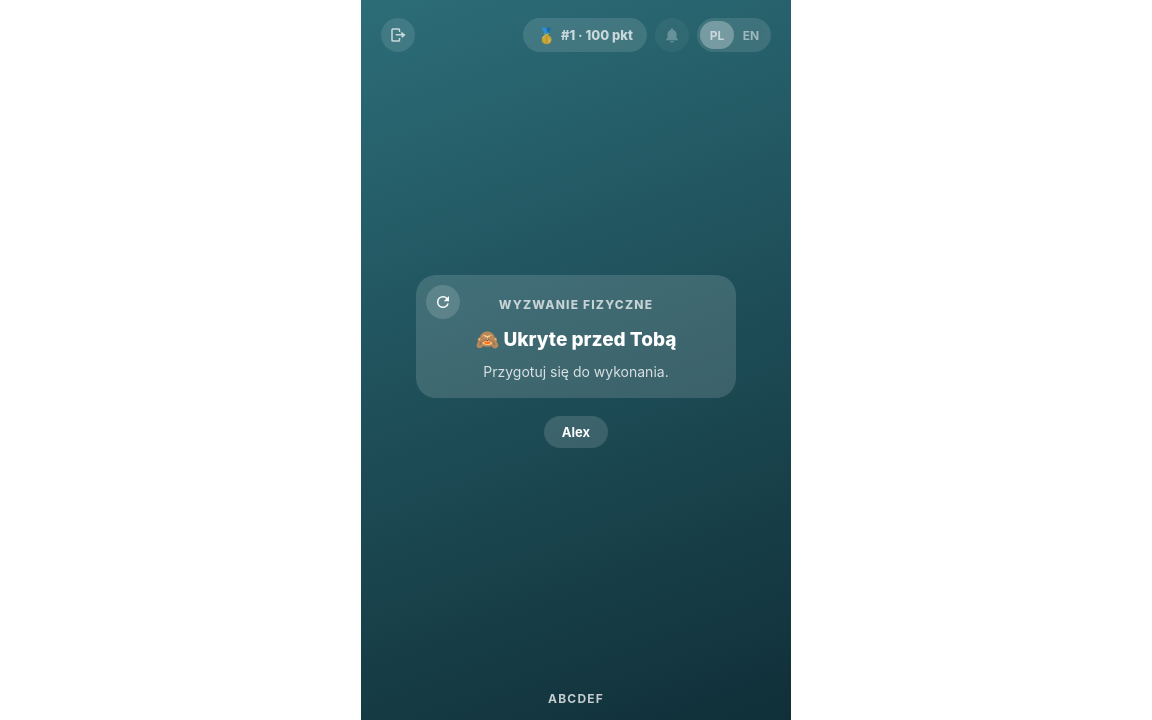
Removing a Guest from the Leaderboard menu › lists Remove after Pause and Resume, in red
Click the button "🥇 #1 · 100 pkt": (585, 35) 523,18 -> 647,52
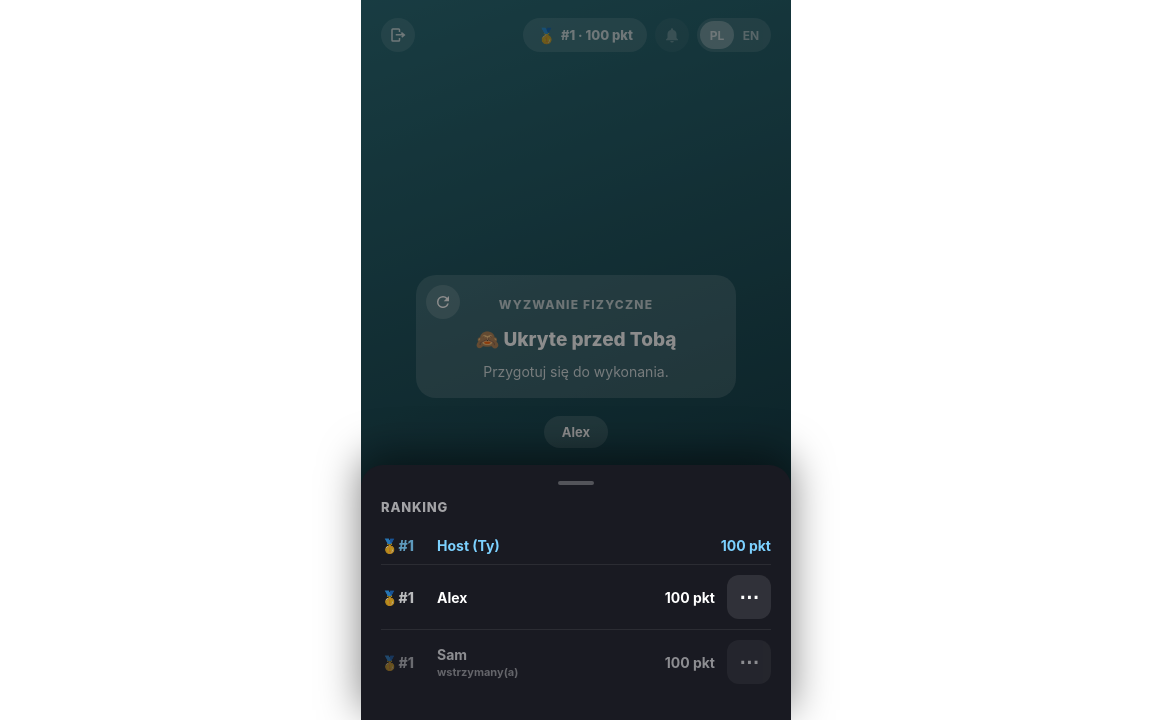
Click the 1st button "⋯": (749, 597) 727,575 -> 771,619
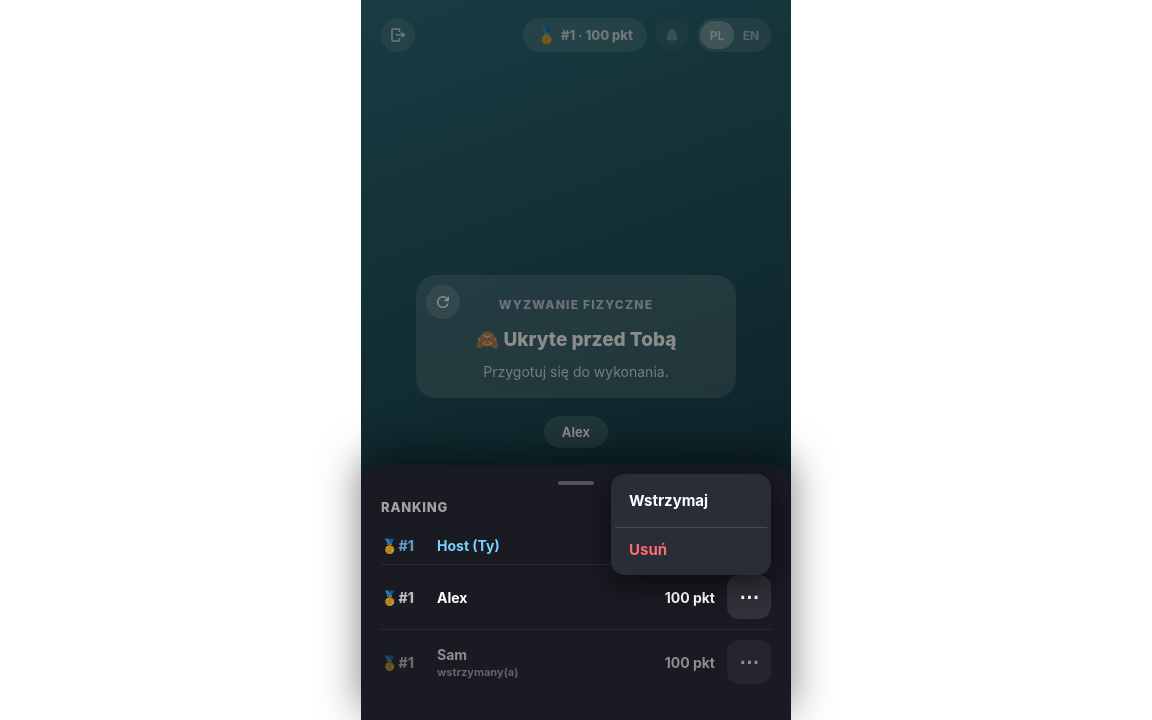
Now the menu items read "Wstrzymaj", "Usuń", in this order, box 615,478 -> 767,522; 615,527 -> 767,571
Click the 1st button "⋯": (749, 597) 727,575 -> 771,619
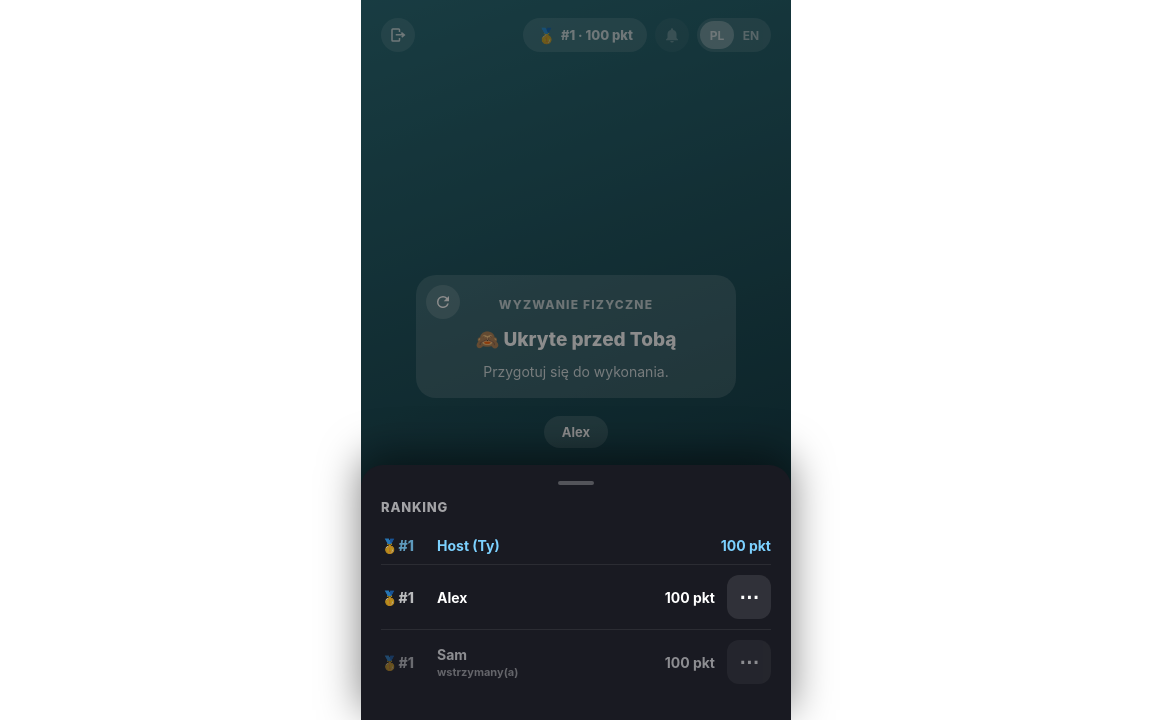
Click the button "⋯" in the row of "wstrzymany(a)": (749, 662) 727,640 -> 771,684
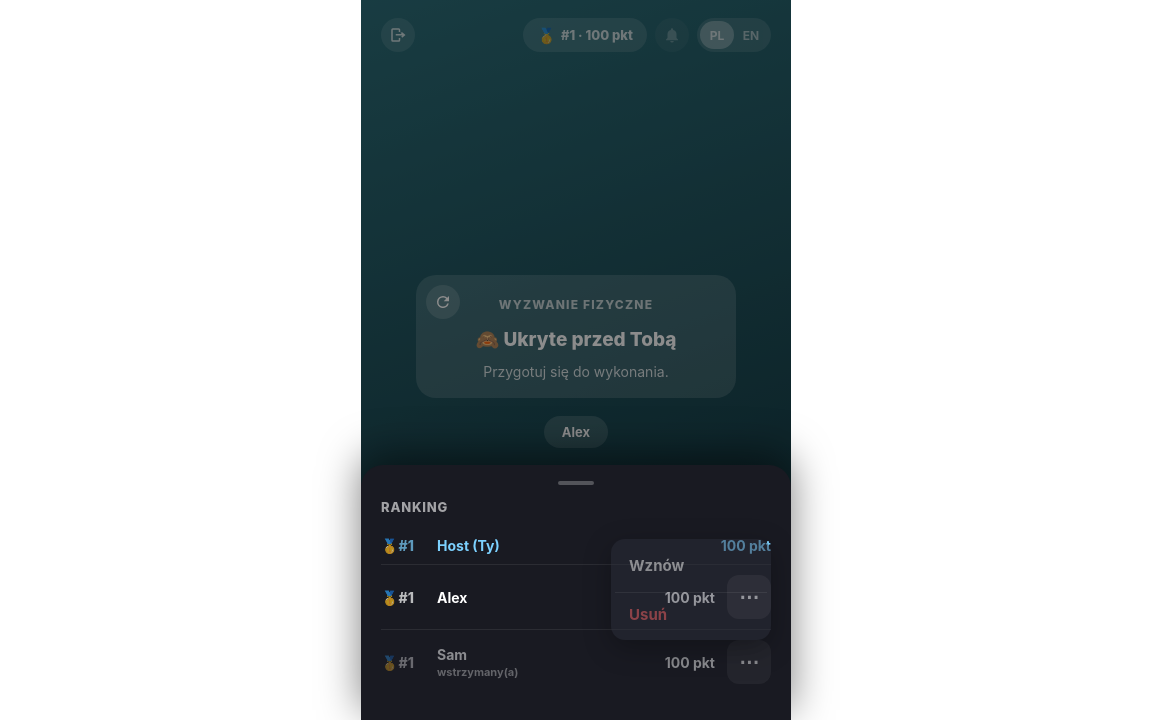
Now the menu items read "Wznów", "Usuń", in this order, box 615,543 -> 767,587; 615,592 -> 767,636
